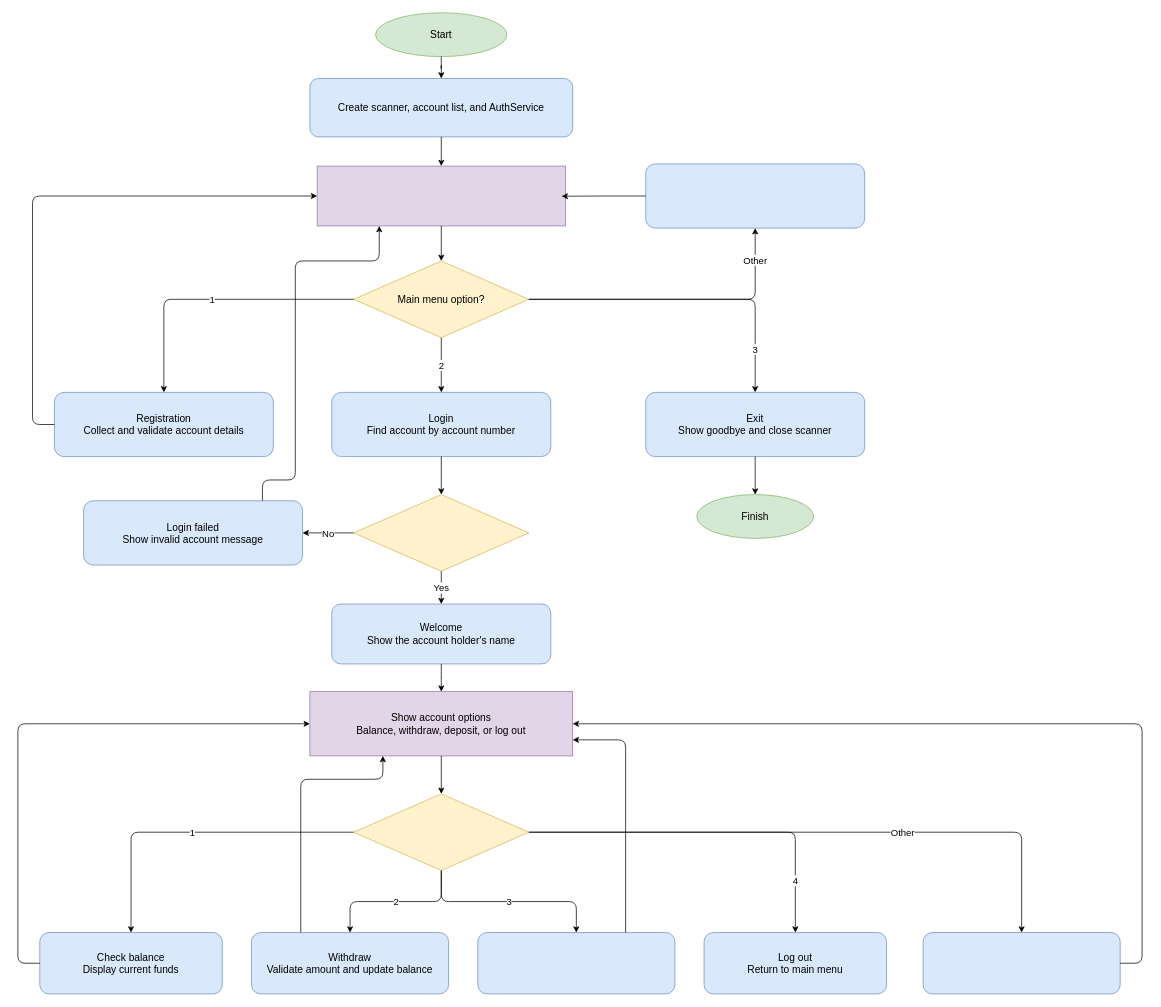
Image size: 1161x1007. Some labels were removed from this diagram. Each missing label, with the centre of its shape:
"Account found?" goes at (x=441, y=532).
"Account option?" goes at (x=441, y=832).
"Deposit Validate amount and update balance" goes at (x=576, y=963).
"Invalid account option Show error and repeat menu" goes at (x=1021, y=963).
"Invalid main option Show error and repeat menu" goes at (x=755, y=195).
"Show main options Sign in, log in, or exit" goes at (x=440, y=195).
